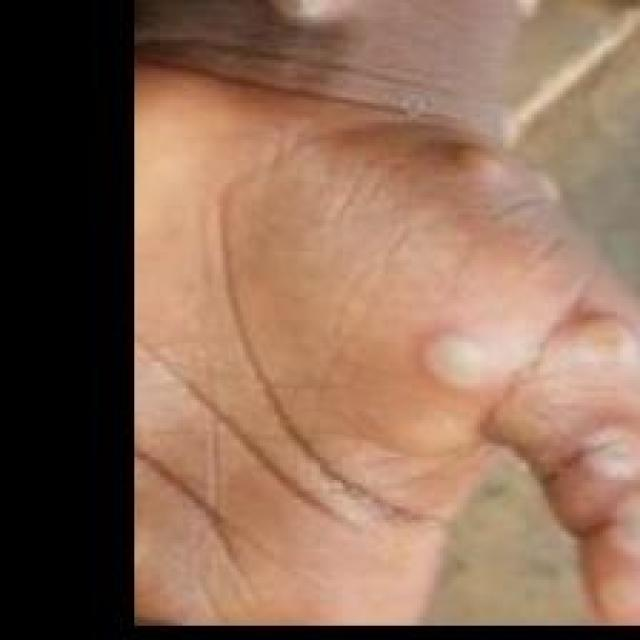monkeypox: (123, 0, 640, 631)
